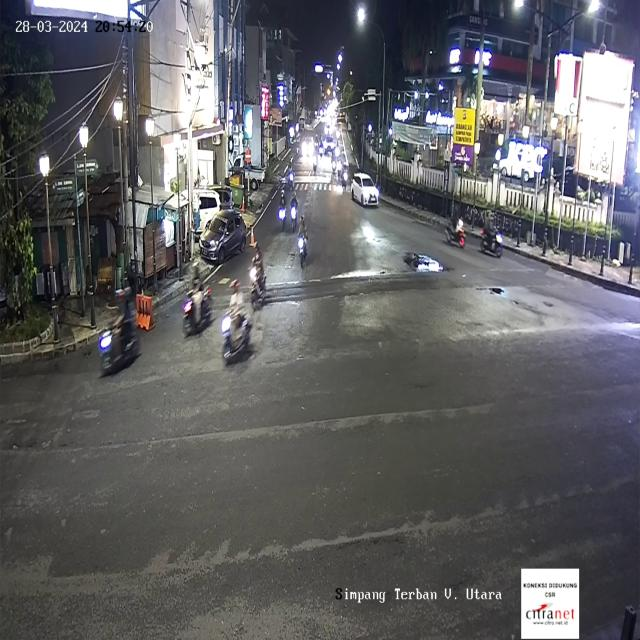car: (199, 208, 247, 266), (352, 174, 383, 209)
motorcycle: (98, 286, 139, 372), (220, 286, 253, 364), (182, 285, 214, 338), (481, 205, 504, 262), (446, 193, 466, 254), (251, 246, 265, 304), (298, 209, 310, 267), (278, 188, 288, 230), (290, 194, 299, 229)
